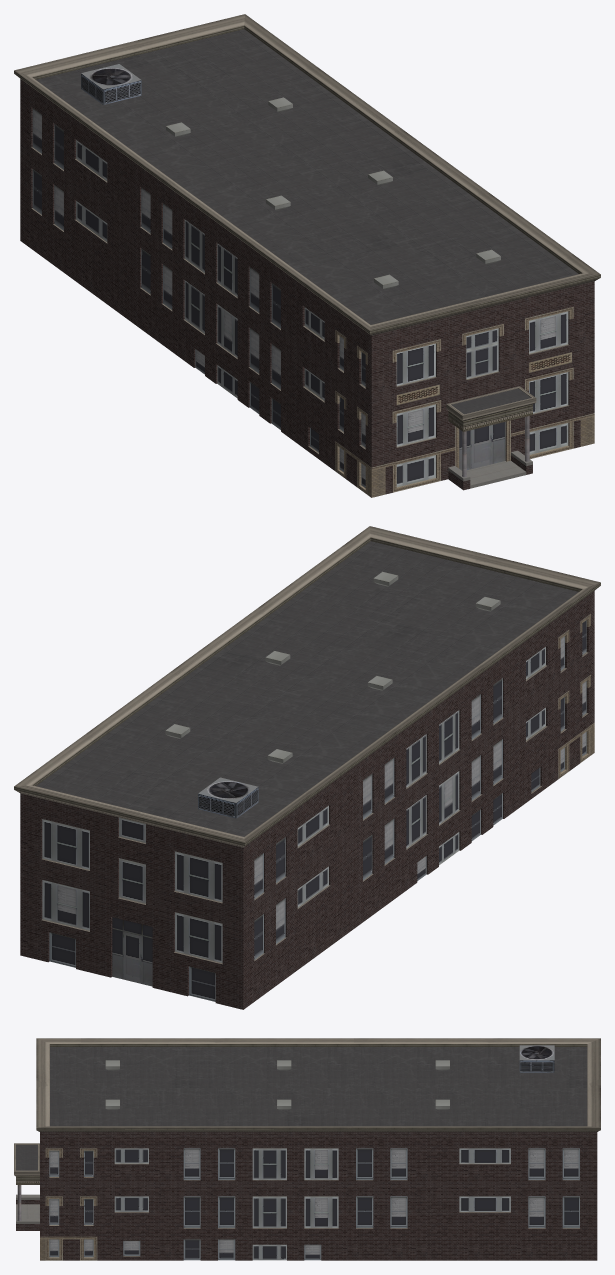
Rendered from midwestern_apartment_1.glb.
3 views of the same model, one above another, from view 1: azimuth 30°, elevation 25°; view 2: azimuth 150°, elevation 25°; view 3: azimuth 270°, elevation 25° (orthographic). The views are drawn at different scales.
Visible parts, largest first — view 1: Object_2; view 2: Object_2; view 3: Object_2.
Boxes of the visible parts, x1,y1,x2,y2 form: Object_2: [14, 14, 600, 497]; Object_2: [14, 526, 600, 1009]; Object_2: [14, 1038, 600, 1260].
Bounding box in the file's own units: 1140 × 844 × 3160.
1 material, 1 textured.
